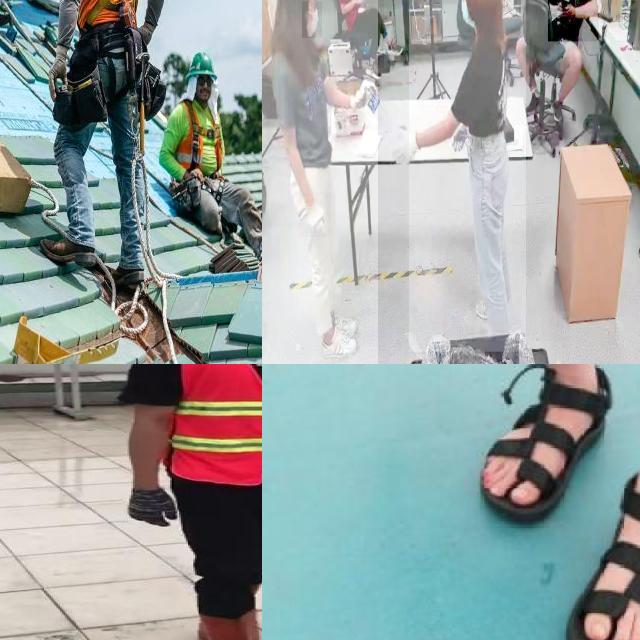Harness: (180, 98, 227, 225), (73, 0, 144, 80)
Sandals: (480, 364, 612, 524), (565, 462, 640, 640)
boots: (245, 583, 261, 605)
face_mask: (302, 1, 322, 38), (454, 0, 477, 31)
hand_glove: (397, 115, 421, 181), (353, 77, 382, 130), (299, 192, 331, 238)
hand_noglove: (553, 0, 570, 21), (562, 0, 575, 20), (351, 0, 366, 3)
person: (262, 0, 378, 364), (409, 0, 526, 352), (115, 364, 262, 640), (333, 0, 384, 69), (548, 0, 599, 42)
shoes: (319, 322, 362, 364), (382, 32, 406, 62), (524, 86, 545, 119), (553, 90, 567, 132)
vest: (168, 364, 262, 485)
